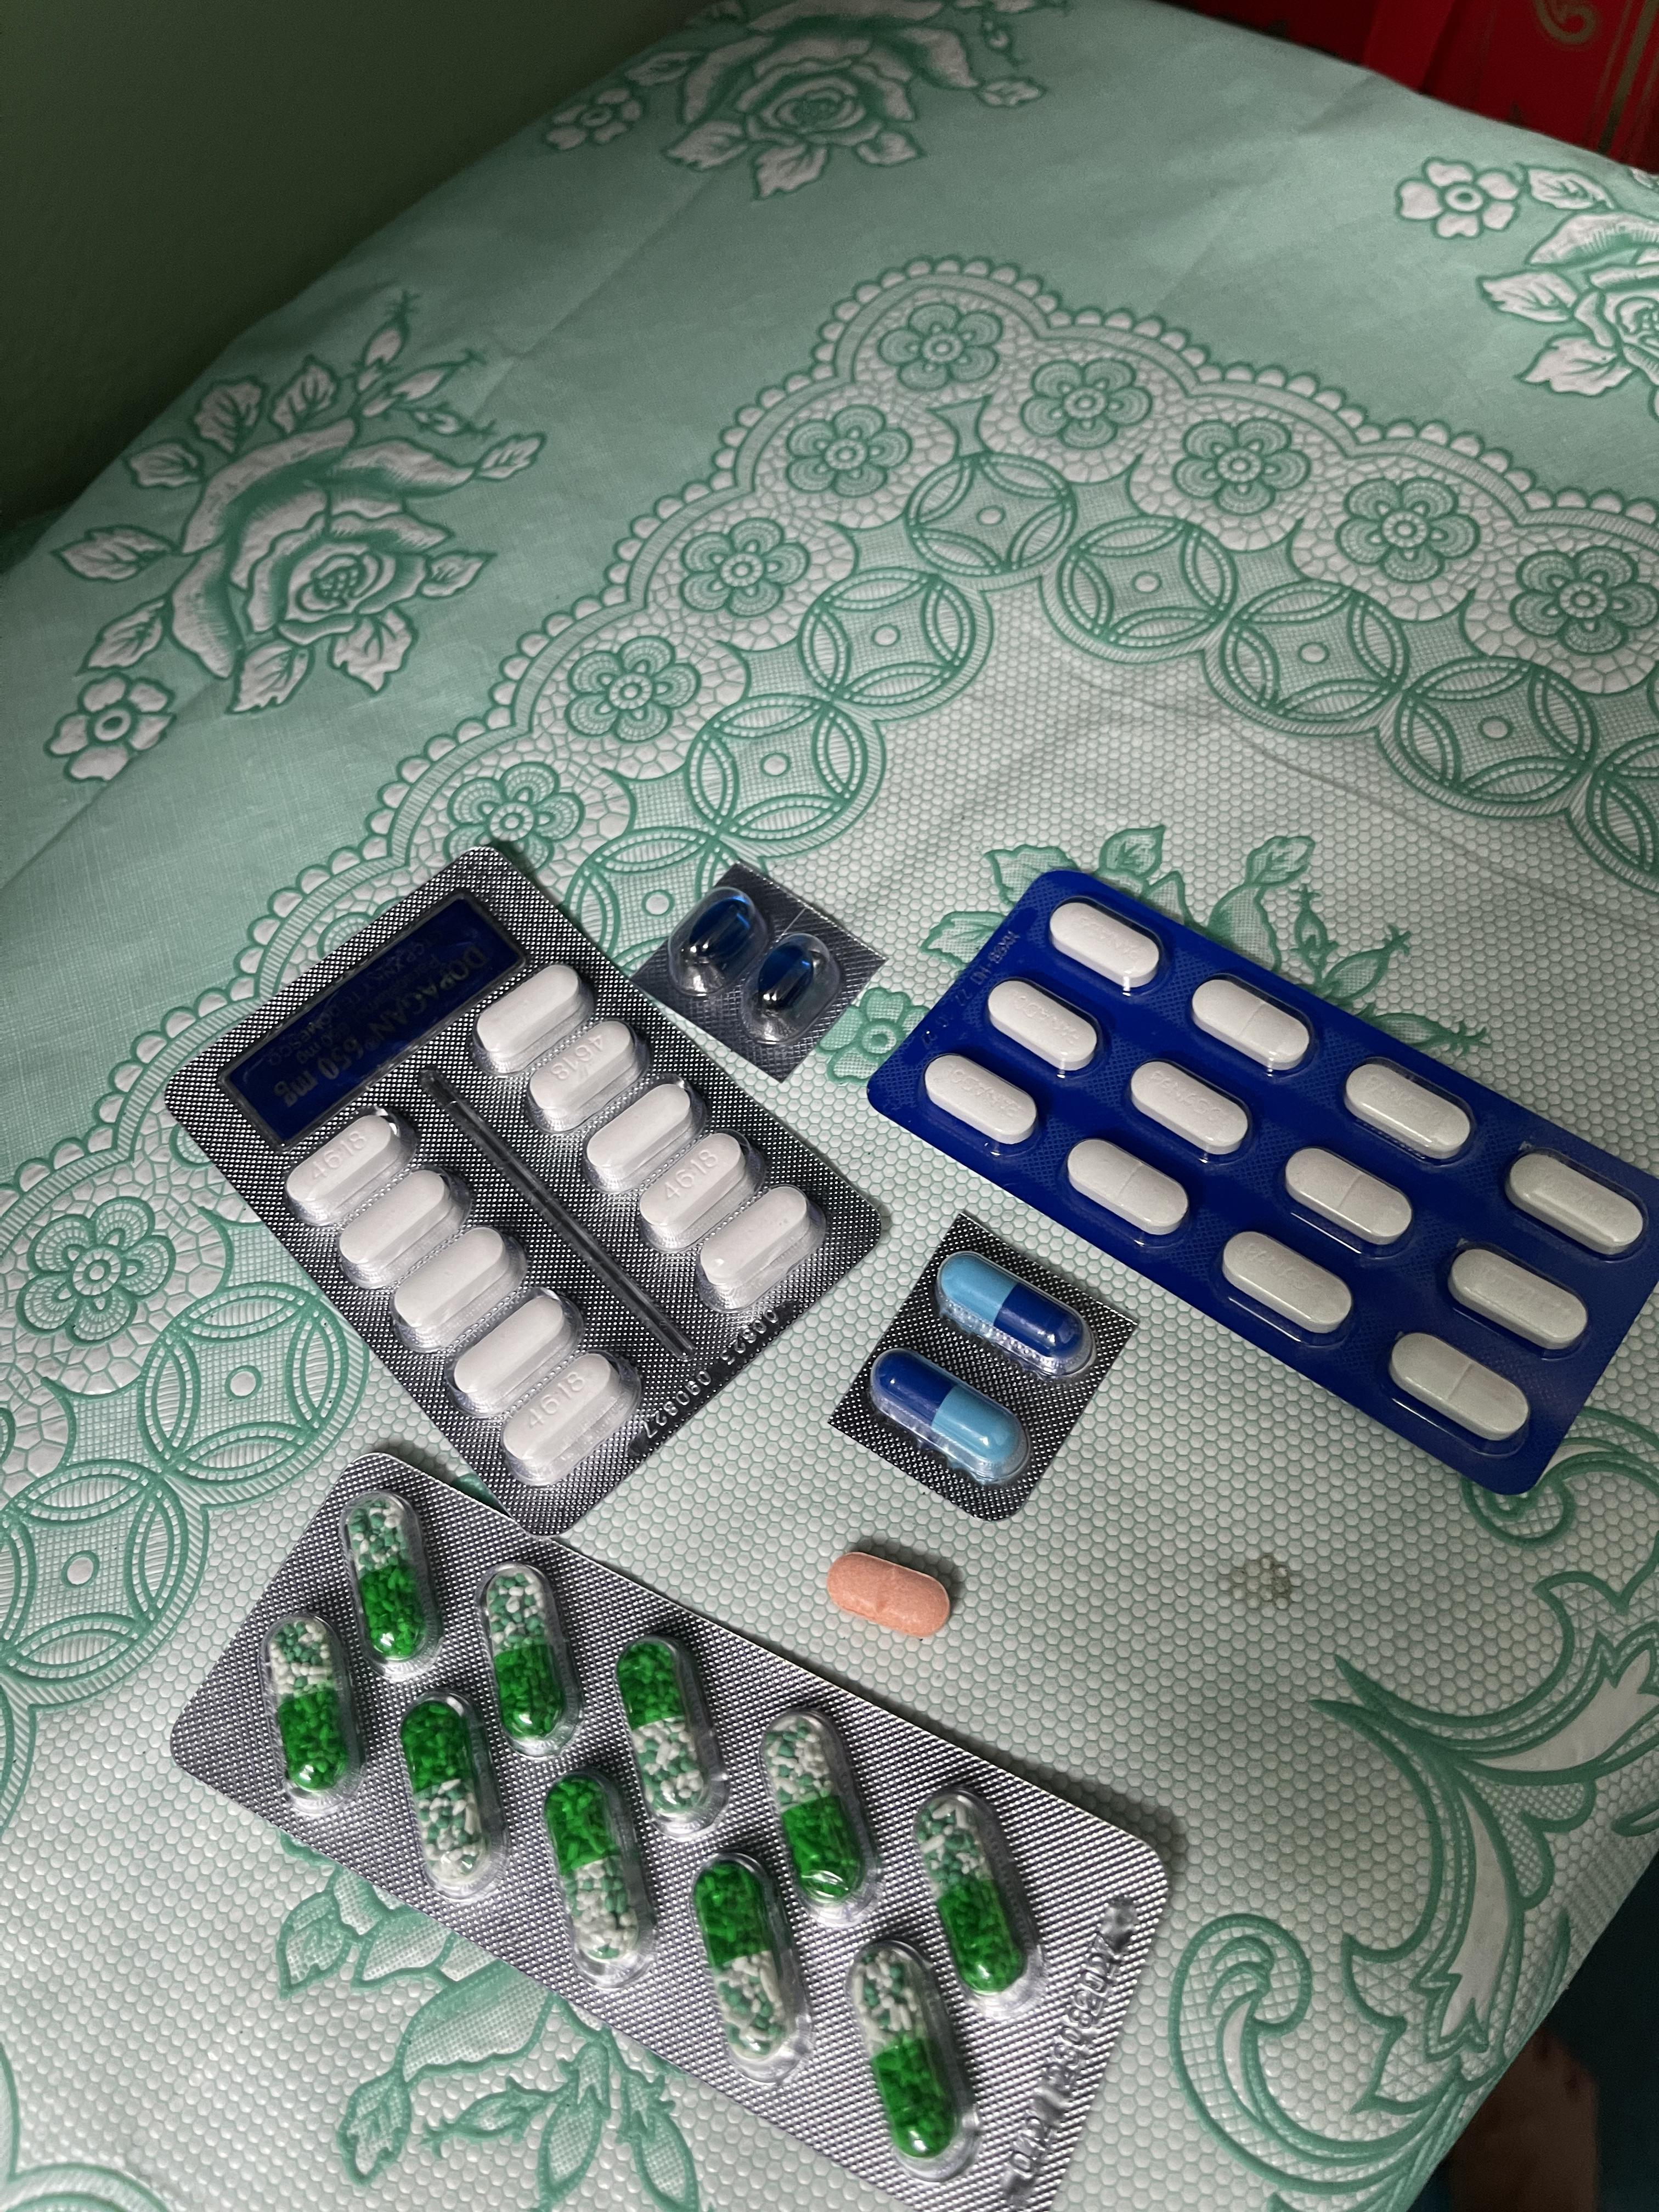Lincomyxin_500mg: (685, 897, 758, 968), (755, 941, 819, 1012)
Loratadine_10mg: (828, 1545, 955, 1634)
Paracetamol_350mg: (1387, 1332, 1530, 1447), (1445, 1245, 1588, 1355), (1504, 1148, 1647, 1256), (1220, 1233, 1351, 1338), (1283, 1146, 1413, 1247), (1340, 1062, 1473, 1160), (1129, 1059, 1249, 1155), (1188, 977, 1312, 1069), (1065, 1137, 1183, 1233), (988, 981, 1101, 1073), (925, 1054, 1037, 1146), (1051, 900, 1162, 989)
Paracetamol_500mg: (497, 1348, 634, 1479), (338, 1165, 472, 1292), (387, 1224, 521, 1350), (636, 1122, 762, 1254), (699, 1184, 823, 1315), (284, 1109, 411, 1230), (450, 1294, 577, 1414), (587, 1082, 704, 1200), (526, 1017, 641, 1134), (474, 963, 591, 1076)
Paracetamol_650mg: (856, 1940, 978, 2175), (545, 1770, 657, 1979), (697, 1850, 803, 2067), (918, 1796, 1030, 2000), (619, 1637, 725, 1825), (399, 1693, 500, 1890), (770, 1717, 871, 1905), (479, 1566, 580, 1752), (267, 1622, 356, 1801), (349, 1494, 432, 1662)
pill: (871, 1348, 1032, 1484), (938, 1256, 1082, 1372)
